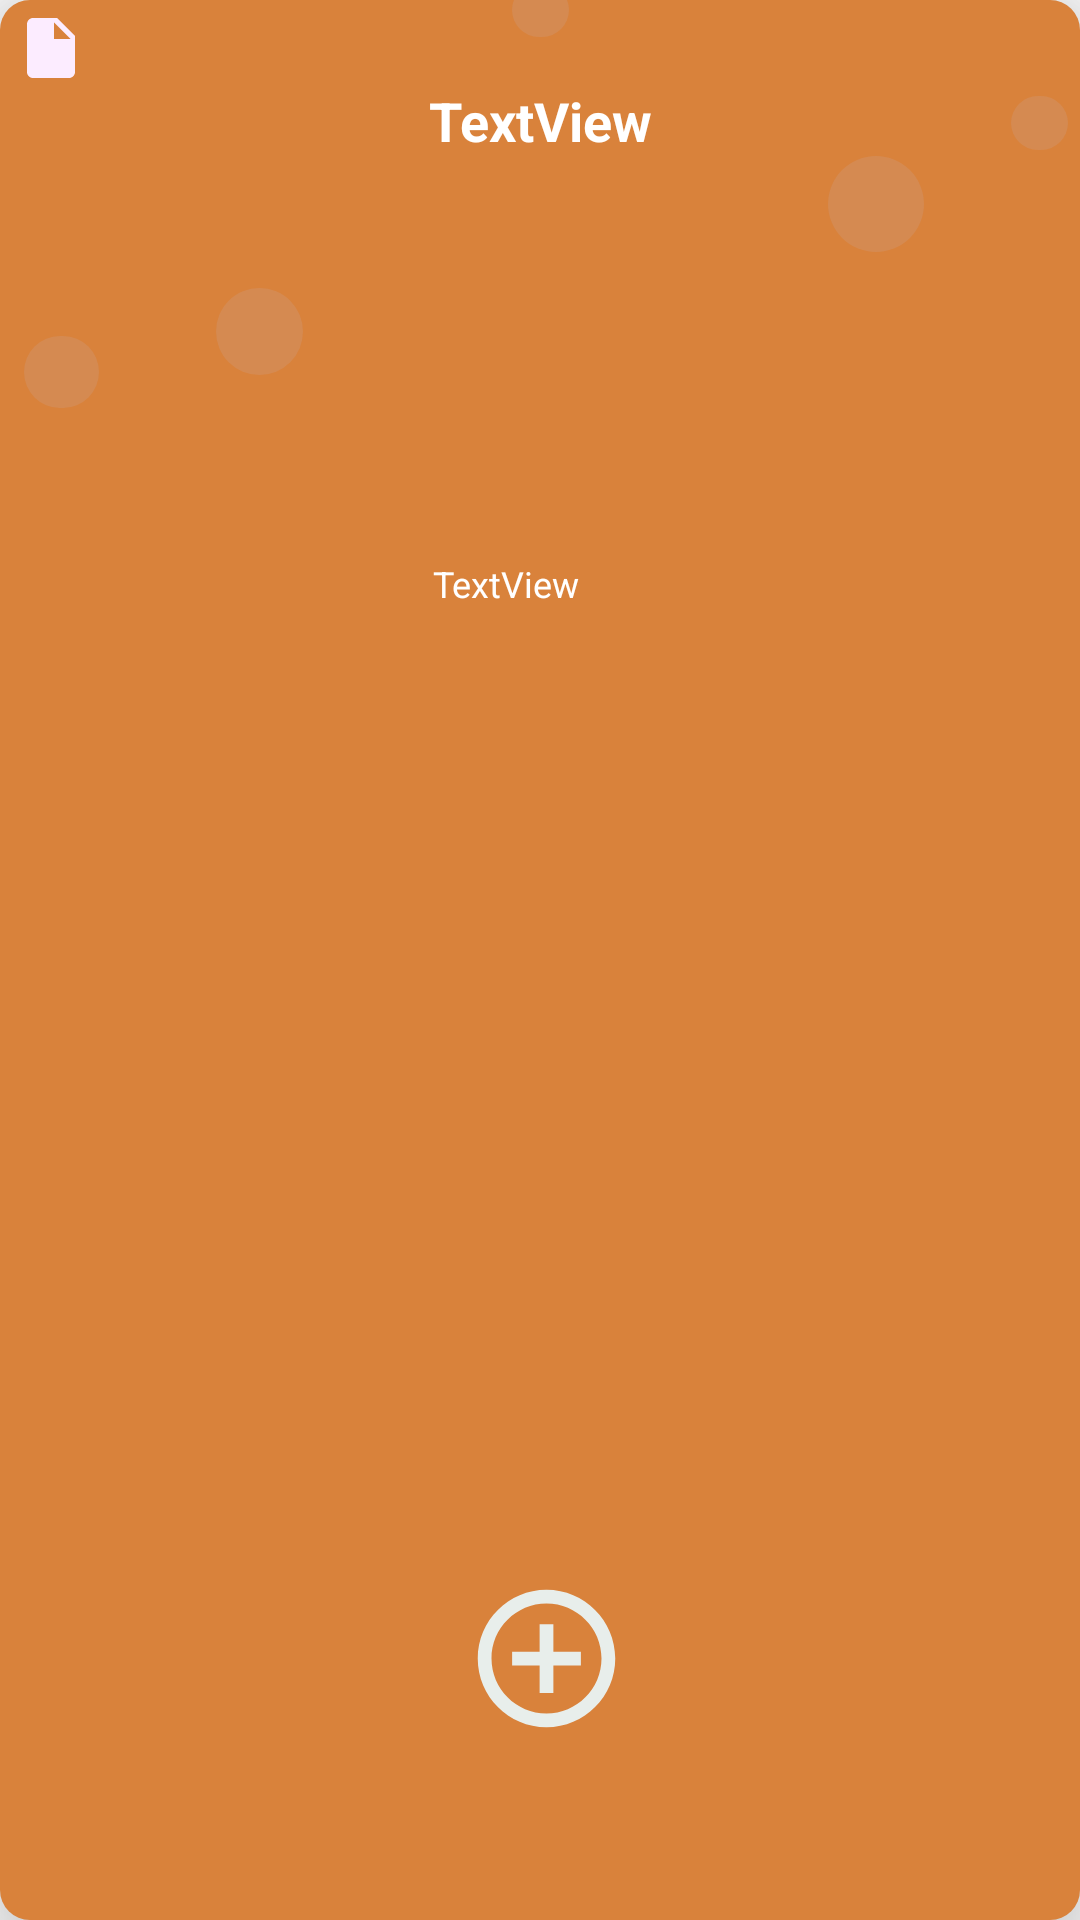

Locate icon controls on the screen. Image size 1080×1920, boxes as (x1, y1, x2, y2).
addnews: (477, 1589, 616, 1728)
ile: (27, 18, 75, 78)
